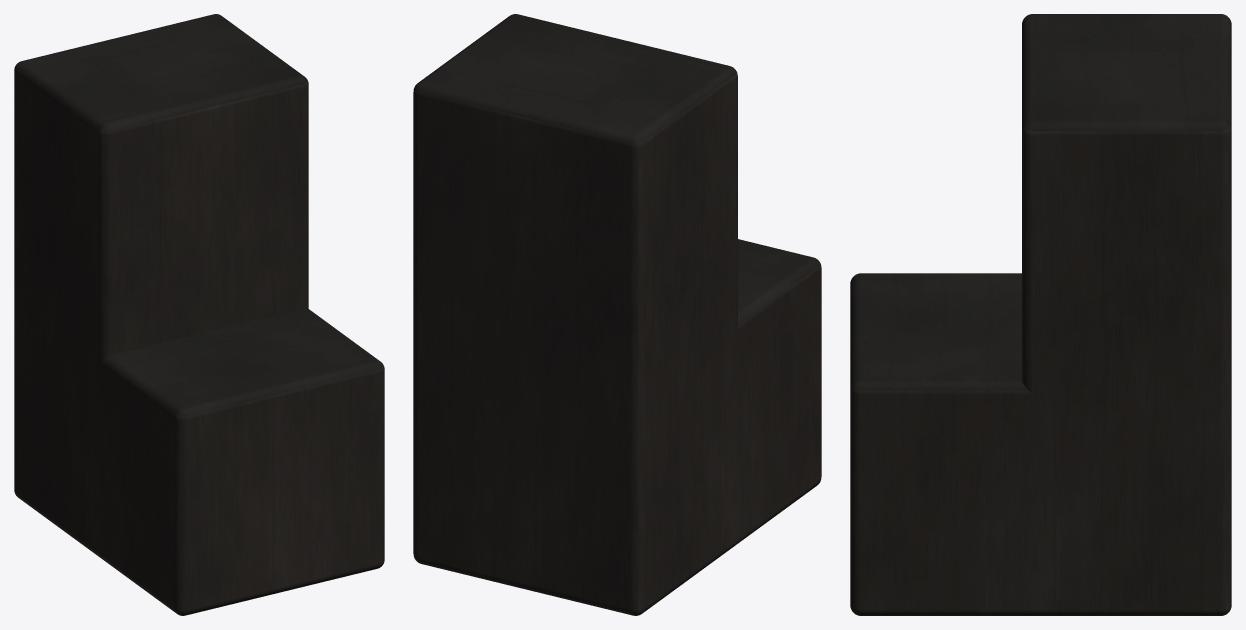
The model's file is knight-black-hd.glb.
The picture shows the model from 3 angles, left to right: view 1: azimuth 30°, elevation 25°; view 2: azimuth 150°, elevation 25°; view 3: azimuth 270°, elevation 25°; orthographic projection. The views are drawn at different scales.
Parts seen in each view (by area): view 1: Rez_Jezdec_cerny; view 2: Rez_Jezdec_cerny; view 3: Rez_Jezdec_cerny.
Boxes of the visible parts, box(x1,y1,x2,y2) form: Rez_Jezdec_cerny: box(14, 14, 384, 615); Rez_Jezdec_cerny: box(413, 14, 821, 615); Rez_Jezdec_cerny: box(850, 14, 1231, 615).
Bounding box in the file's own units: 0.4851 × 0.97 × 0.679.
2 materials, 2 textured.
